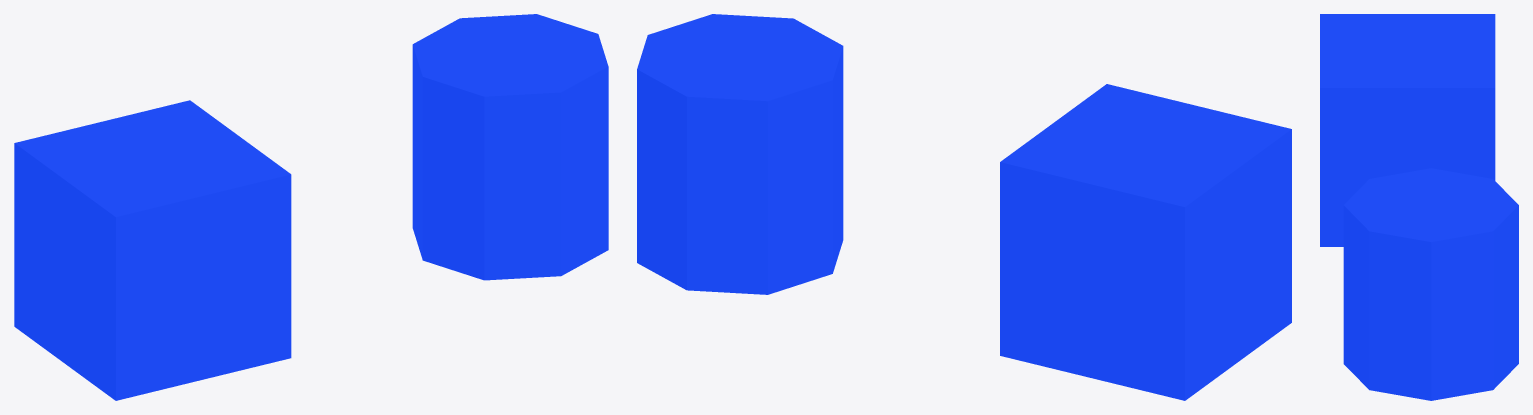
The picture shows the model from 3 angles, left to right: view 1: azimuth 30°, elevation 25°; view 2: azimuth 150°, elevation 25°; view 3: azimuth 270°, elevation 25°; orthographic projection. The views are drawn at different scales.
Parts seen in each view (by area): view 1: Cube, 柱体; view 2: Cube, 柱体; view 3: 柱体, Cube.
Boxes of the visible parts, box(x1,y1,x2,y2) form: Cube: box(14, 100, 291, 400); 柱体: box(412, 14, 608, 280); Cube: box(1000, 84, 1291, 400); 柱体: box(637, 14, 843, 294); 柱体: box(1343, 168, 1518, 400); Cube: box(1320, 14, 1495, 246).
Size of the model in its own units: 6.23 by 2.03 by 2.27.
